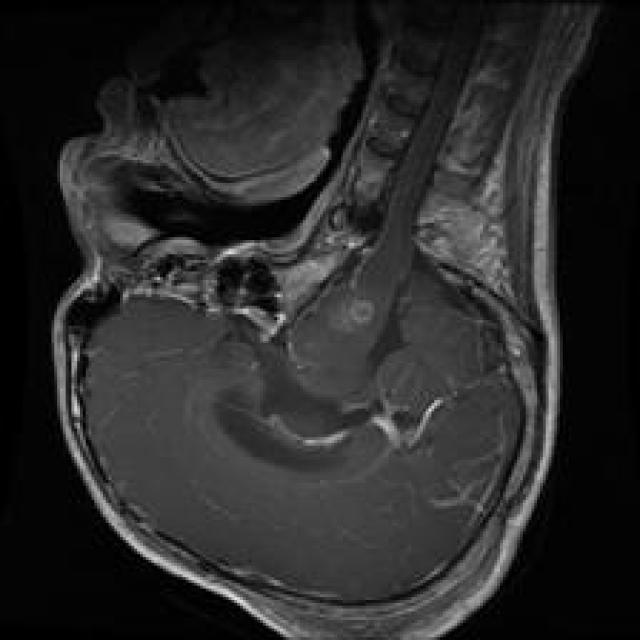glioma_tumor: (317, 287, 388, 350)
